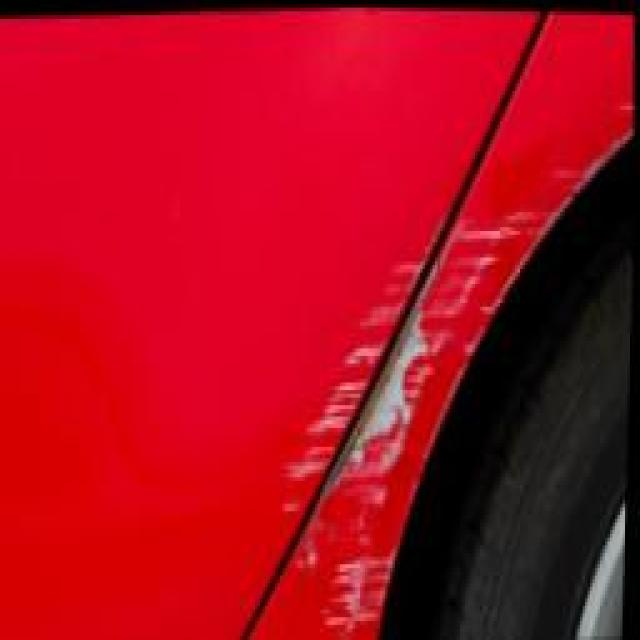Fender: (182, 87, 638, 640)
